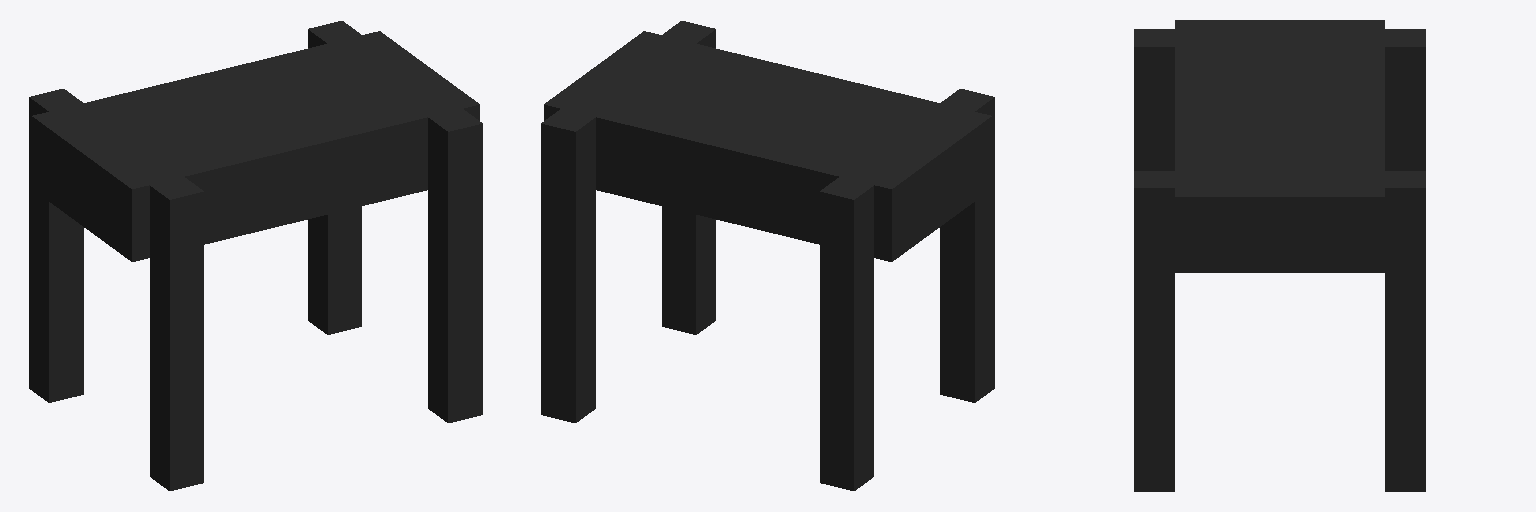
URDF robot description (quadruped):
<?xml version="1.0" ?>
<!-- =================================================================================== -->
<!-- |    This document was autogenerated by xacro from quadruped.xacro                | -->
<!-- |    EDITING THIS FILE BY HAND IS NOT RECOMMENDED                                 | -->
<!-- =================================================================================== -->
<robot name="quadruped">
  <material name="black">
    <color rgba="0.0 0.0 0.0 1.0"/>
  </material>
  <material name="blue">
    <color rgba="0.0 0.0 0.8 1.0"/>
  </material>
  <material name="green">
    <color rgba="0.0 0.8 0.0 1.0"/>
  </material>
  <material name="grey">
    <color rgba="0.2 0.2 0.2 1.0"/>
  </material>
  <material name="orange">
    <color rgba="1.0 0.4235294117647059 0.0392156862745098 1.0"/>
  </material>
  <material name="brown">
    <color rgba="0.8705882352941177 0.8117647058823529 0.7647058823529411 1.0"/>
  </material>
  <material name="red">
    <color rgba="0.8 0.0 0.0 1.0"/>
  </material>
  <material name="white">
    <color rgba="1.0 1.0 1.0 1.0"/>
  </material>
  <!-- see https://secure.wikimedia.org/wikipedia/en/wiki/List_of_moment_of_inertia_tensors -->
  <link name="base">
    <inertial>
      <mass value="1"/>
      <origin xyz="0 0 0"/>
      <inertia ixx="0.0" ixy="0.0" ixz="0.0" iyy="0.0" iyz="0.0" izz="0.0"/>
    </inertial>
    <visual>
      <origin xyz="0 0 0"/>
      <geometry>
        <box size="0.5 0.25 0.1"/>
      </geometry>
      <material name="grey"/>
    </visual>
    <collision>
      <origin xyz="0 0 0"/>
      <geometry>
        <box size="0.5 0.25 0.1"/>
      </geometry>
    </collision>
  </link>
  <link name="world"/>
  <joint name="fixed" type="fixed">
    <parent link="world"/>
    <child link="base"/>
  </joint>
  <link name="up_leg_fl">
    <inertial>
      <mass value="1"/>
      <origin xyz="0 0 0"/>
      <inertia ixx="0.0020833325" ixy="0.0" ixz="0.0" iyy="0.00020833325000000003" iyz="0.0" izz="0.00187499925"/>
    </inertial>
    <visual>
      <origin xyz="0 0.15 -0.05"/>
      <geometry>
        <box size="0.05 0.05 0.2"/>
      </geometry>
      <material name="grey"/>
    </visual>
    <collision>
      <origin xyz="0 0.15 -0.05"/>
      <geometry>
        <box size="0.05 0.05 0.2"/>
      </geometry>
    </collision>
  </link>
  <link name="up_leg_fr">
    <inertial>
      <mass value="1"/>
      <origin xyz="0 0 0"/>
      <inertia ixx="0.0020833325" ixy="0.0" ixz="0.0" iyy="0.00020833325000000003" iyz="0.0" izz="0.00187499925"/>
    </inertial>
    <visual>
      <origin xyz="0 -0.15 -0.05"/>
      <geometry>
        <box size="0.05 0.05 0.2"/>
      </geometry>
      <material name="grey"/>
    </visual>
    <collision>
      <origin xyz="0 -0.15 -0.05"/>
      <geometry>
        <box size="0.05 0.05 0.2"/>
      </geometry>
    </collision>
  </link>
  <link name="up_leg_bl">
    <inertial>
      <mass value="1"/>
      <origin xyz="0 0 0"/>
      <inertia ixx="0.0020833325" ixy="0.0" ixz="0.0" iyy="0.00020833325000000003" iyz="0.0" izz="0.00187499925"/>
    </inertial>
    <visual>
      <origin xyz="0 0.15 -0.05"/>
      <geometry>
        <box size="0.05 0.05 0.2"/>
      </geometry>
      <material name="grey"/>
    </visual>
    <collision>
      <origin xyz="0 0.15 -0.05"/>
      <geometry>
        <box size="0.05 0.05 0.2"/>
      </geometry>
    </collision>
  </link>
  <link name="up_leg_br">
    <inertial>
      <mass value="1"/>
      <origin xyz="0 0 0"/>
      <inertia ixx="0.0020833325" ixy="0.0" ixz="0.0" iyy="0.00020833325000000003" iyz="0.0" izz="0.00187499925"/>
    </inertial>
    <visual>
      <origin xyz="0 -0.15 -0.05"/>
      <geometry>
        <box size="0.05 0.05 0.2"/>
      </geometry>
      <material name="grey"/>
    </visual>
    <collision>
      <origin xyz="0 -0.15 -0.05"/>
      <geometry>
        <box size="0.05 0.05 0.2"/>
      </geometry>
    </collision>
  </link>
  <link name="bottom_leg_fl">
    <inertial>
      <mass value="1"/>
      <origin xyz="0 0 0"/>
      <inertia ixx="0.0008333330000000001" ixy="0.0" ixz="0.0" iyy="0.0008333330000000001" iyz="0.0" izz="0.0"/>
    </inertial>
    <visual>
      <origin xyz="0 0 -0.1"/>
      <geometry>
        <box size="0.05 0.05 0.2"/>
      </geometry>
      <material name="grey"/>
    </visual>
    <collision>
      <origin xyz="0 0 -0.1"/>
      <geometry>
        <box size="0.05 0.05 0.2"/>
      </geometry>
    </collision>
  </link>
  <link name="bottom_leg_fr">
    <inertial>
      <mass value="1"/>
      <origin xyz="0 0 0"/>
      <inertia ixx="0.0008333330000000001" ixy="0.0" ixz="0.0" iyy="0.0008333330000000001" iyz="0.0" izz="0.0"/>
    </inertial>
    <visual>
      <origin xyz="0 0 -0.1"/>
      <geometry>
        <box size="0.05 0.05 0.2"/>
      </geometry>
      <material name="grey"/>
    </visual>
    <collision>
      <origin xyz="0 0 -0.1"/>
      <geometry>
        <box size="0.05 0.05 0.2"/>
      </geometry>
    </collision>
  </link>
  <link name="bottom_leg_bl">
    <inertial>
      <mass value="1"/>
      <origin xyz="0 0 0"/>
      <inertia ixx="0.0008333330000000001" ixy="0.0" ixz="0.0" iyy="0.0008333330000000001" iyz="0.0" izz="0.0"/>
    </inertial>
    <visual>
      <origin xyz="0 0 -0.1"/>
      <geometry>
        <box size="0.05 0.05 0.2"/>
      </geometry>
      <material name="grey"/>
    </visual>
    <collision>
      <origin xyz="0 0 -0.1"/>
      <geometry>
        <box size="0.05 0.05 0.2"/>
      </geometry>
    </collision>
  </link>
  <link name="bottom_leg_br">
    <inertial>
      <mass value="1"/>
      <origin xyz="0 0 0"/>
      <inertia ixx="0.0008333330000000001" ixy="0.0" ixz="0.0" iyy="0.0008333330000000001" iyz="0.0" izz="0.0"/>
    </inertial>
    <visual>
      <origin xyz="0 0 -0.1"/>
      <geometry>
        <box size="0.05 0.05 0.2"/>
      </geometry>
      <material name="grey"/>
    </visual>
    <collision>
      <origin xyz="0 0 -0.1"/>
      <geometry>
        <box size="0.05 0.05 0.2"/>
      </geometry>
    </collision>
  </link>
  <joint name="up_fl" type="revolute">
    <parent link="base"/>
    <child link="up_leg_fl"/>
    <origin xyz="0.2 0 0"/>
    <axis xyz="0 -1 0"/>
    <limit effort="100" lower="-1.57" upper="1.57" velocity="10"/>
    <dynamics damping="1" friction="0.01"/>
  </joint>
  <joint name="up_fr" type="revolute">
    <parent link="base"/>
    <child link="up_leg_fr"/>
    <origin xyz="0.2 0 0"/>
    <axis xyz="0 -1 0"/>
    <limit effort="100" lower="-1.57" upper="1.57" velocity="10"/>
    <dynamics damping="1" friction="0.01"/>
  </joint>
  <joint name="up_bl" type="revolute">
    <parent link="base"/>
    <child link="up_leg_bl"/>
    <origin xyz="-0.2 0 0"/>
    <axis xyz="0 -1 0"/>
    <limit effort="100" lower="-1.57" upper="1.57" velocity="10"/>
    <dynamics damping="1" friction="0.01"/>
  </joint>
  <joint name="up_br" type="revolute">
    <parent link="base"/>
    <child link="up_leg_br"/>
    <origin xyz="-0.2 0 0"/>
    <axis xyz="0 -1 0"/>
    <limit effort="100" lower="-1.57" upper="1.57" velocity="10"/>
    <dynamics damping="1" friction="0.01"/>
  </joint>
  <joint name="bottom_fl" type="revolute">
    <parent link="up_leg_fl"/>
    <child link="bottom_leg_fl"/>
    <origin xyz="0 0.15 -0.15"/>
    <axis xyz="0 -1 0"/>
    <limit effort="100" lower="-1.57" upper="1.57" velocity="10"/>
    <dynamics damping="1" friction="0.01"/>
  </joint>
  <joint name="bottom_fr" type="revolute">
    <parent link="up_leg_fr"/>
    <child link="bottom_leg_fr"/>
    <origin xyz="0 -0.15 -0.15"/>
    <axis xyz="0 -1 0"/>
    <limit effort="100" lower="-1.57" upper="1.57" velocity="10"/>
    <dynamics damping="1" friction="0.01"/>
  </joint>
  <joint name="bottom_bl" type="revolute">
    <parent link="up_leg_bl"/>
    <child link="bottom_leg_bl"/>
    <origin xyz="0 0.15 -0.15"/>
    <axis xyz="0 -1 0"/>
    <limit effort="100" lower="-1.57" upper="1.57" velocity="10"/>
    <dynamics damping="1" friction="0.01"/>
  </joint>
  <joint name="bottom_br" type="revolute">
    <parent link="up_leg_br"/>
    <child link="bottom_leg_br"/>
    <origin xyz="0 -0.15 -0.15"/>
    <axis xyz="0 -1 0"/>
    <limit effort="100" lower="-1.57" upper="1.57" velocity="10"/>
    <dynamics damping="1" friction="0.01"/>
  </joint>
</robot>

--- What the picture shows (computed from the rendered views, not written in the file) ---
3 views of the same robot in one strip: view 1: azimuth 30°, elevation 25°; view 2: azimuth 150°, elevation 25°; view 3: azimuth 270°, elevation 25° (orthographic).
Model quadruped with 10 links and 9 joints (8 revolute, 1 fixed), rooted at world, posed all joints at 0.
Visible links, largest first — view 1: base, up_leg_fr, up_leg_br, bottom_leg_bl, bottom_leg_fr, bottom_leg_br, bottom_leg_fl, up_leg_bl, up_leg_fl; view 2: base, up_leg_fl, up_leg_bl, bottom_leg_br, bottom_leg_fl, bottom_leg_bl, bottom_leg_fr, up_leg_br, up_leg_fr; view 3: base, up_leg_fl, up_leg_fr, bottom_leg_fl, bottom_leg_fr, up_leg_bl, up_leg_br.
Link boxes in pixels (x1,y1,x2,y2): base: (32, 31, 479, 261); up_leg_fr: (428, 109, 482, 277); up_leg_br: (150, 177, 203, 345); bottom_leg_bl: (29, 243, 83, 402); bottom_leg_fr: (428, 263, 482, 422); bottom_leg_br: (150, 332, 203, 490); bottom_leg_fl: (308, 206, 361, 334); up_leg_bl: (29, 89, 83, 256); up_leg_fl: (308, 21, 360, 47); base: (544, 31, 991, 261); up_leg_fl: (541, 109, 595, 277); up_leg_bl: (820, 177, 873, 345); bottom_leg_br: (940, 243, 994, 402); bottom_leg_fl: (541, 263, 595, 422); bottom_leg_bl: (820, 332, 873, 490); bottom_leg_fr: (662, 206, 715, 334); up_leg_br: (940, 89, 994, 256); up_leg_fr: (663, 21, 715, 47); base: (1175, 20, 1384, 272); up_leg_fl: (1385, 171, 1425, 339); up_leg_fr: (1134, 171, 1174, 339); bottom_leg_fl: (1385, 340, 1425, 491); bottom_leg_fr: (1134, 340, 1174, 491); up_leg_bl: (1385, 29, 1425, 170); up_leg_br: (1134, 29, 1174, 170).
Bounding box of the posed robot: 0.5 × 0.35 × 0.4 m (x, y, z).
Geometry: primitives only (box / cylinder / sphere), no mesh files.